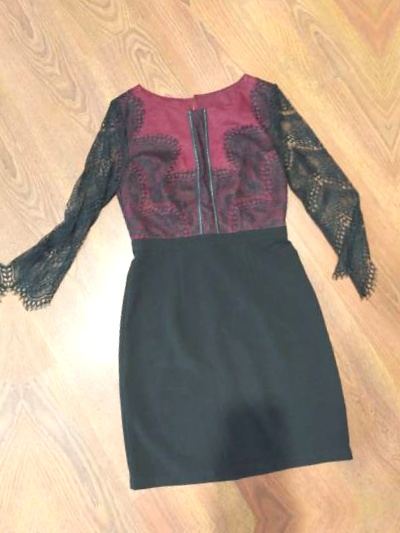Dress: (0, 39, 400, 519), (0, 85, 26, 533), (391, 0, 400, 472), (52, 529, 400, 533)
